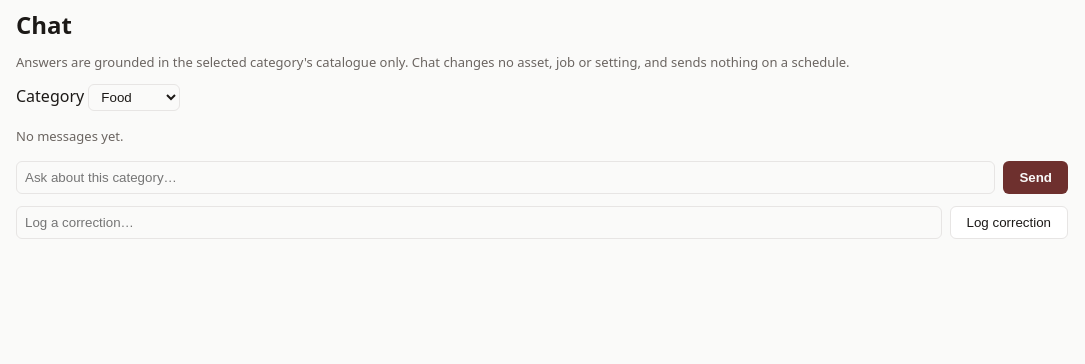
Test: ChatPage › submitting the form by pressing Enter sends the question
Step 1. Type "Is milk in stock?" into the field named "Question" → (506, 177), box left=16, top=161, right=995, bottom=194
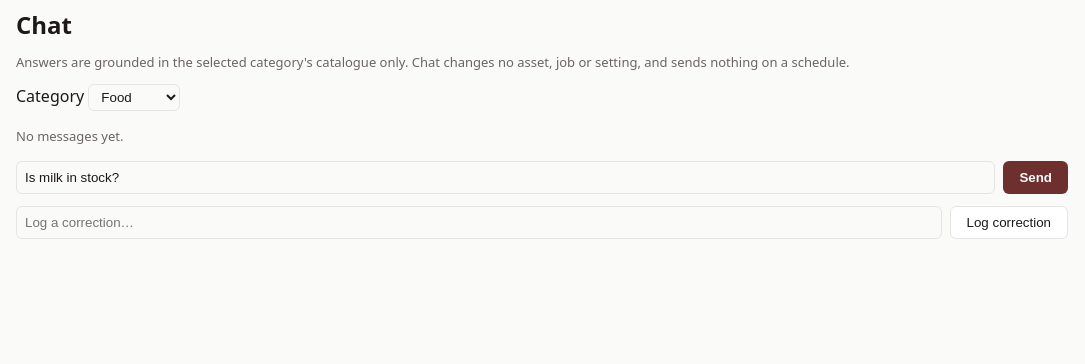
Step 2. Submit the form from the field named "Question", box left=16, top=161, right=995, bottom=194
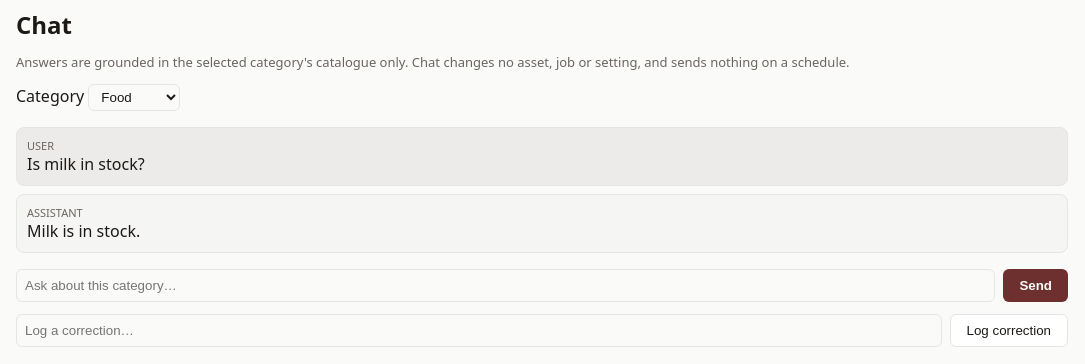
Expected: the text "Milk is in stock." is shown, left=27, top=220, right=140, bottom=242
